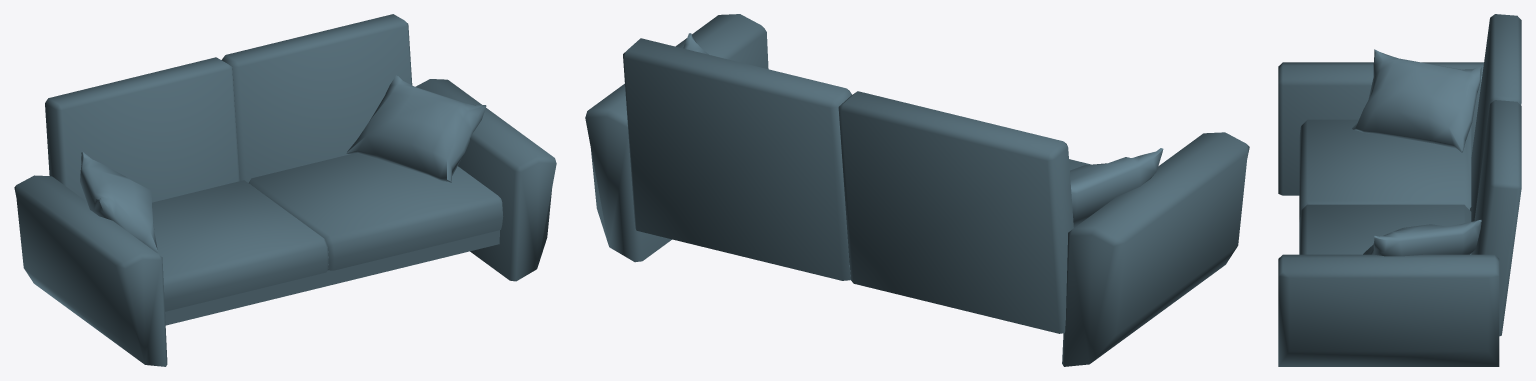
File: couch.glb
3 views of the same model, side by side, from view 1: azimuth 30°, elevation 25°; view 2: azimuth 150°, elevation 25°; view 3: azimuth 270°, elevation 25° (orthographic). The views are drawn at different scales.
Visible parts, largest first — view 1: sofa_022; view 2: sofa_022; view 3: sofa_022.
Boxes of the visible parts, x1=… form: sofa_022: x1=14, y1=14, x2=556, y2=366; sofa_022: x1=585, y1=14, x2=1249, y2=366; sofa_022: x1=1278, y1=14, x2=1521, y2=366.
Size of the model in its own units: 1.97 by 0.779 by 0.9491.
1 material, 1 textured.
